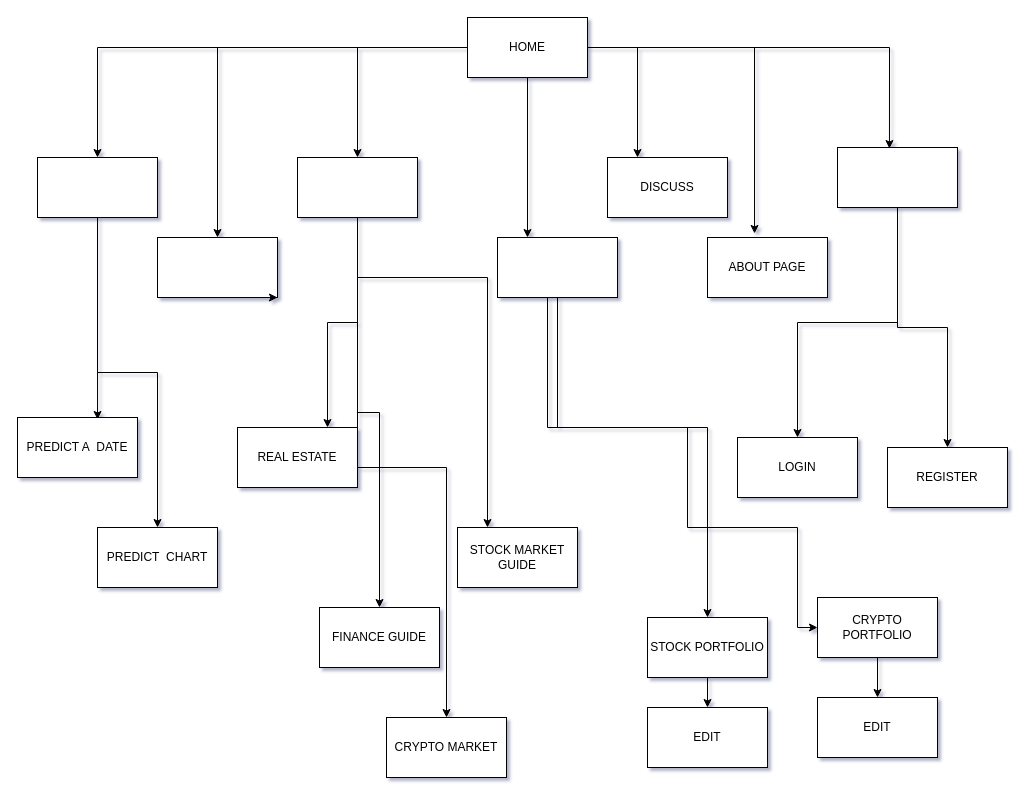
This 1031x801 diagram has some shape labels left out. The centre of each missing label's shape, as x and y in pixels:
"GUIDE" belongs at [357,187].
"MORE" belongs at [897,177].
"NEW PAGE" belongs at [217,267].
"PORTFOLIO" belongs at [557,267].
"PREDICT PAGE" belongs at [97,187].
